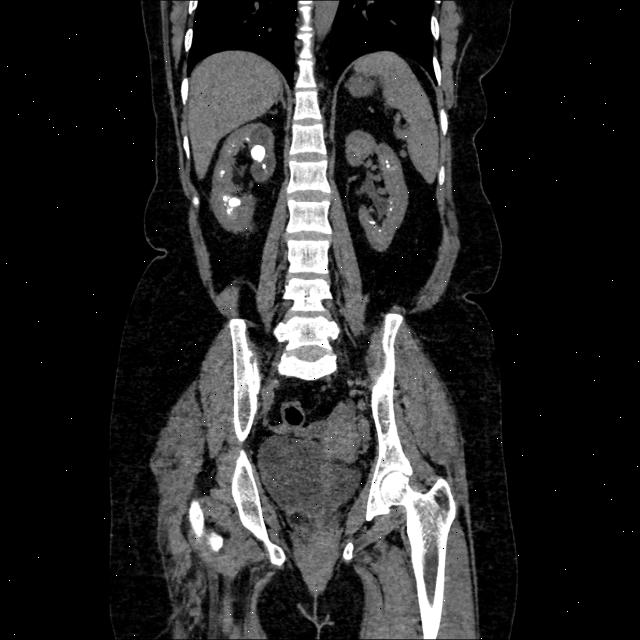kidneystone: (222, 194, 241, 208), (250, 145, 266, 161), (385, 159, 390, 168), (369, 219, 376, 225), (220, 170, 225, 177), (391, 201, 392, 209)
